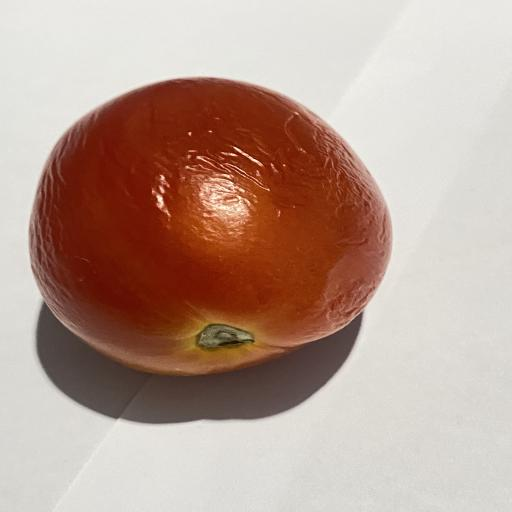spoiled: (30, 78, 391, 375)
